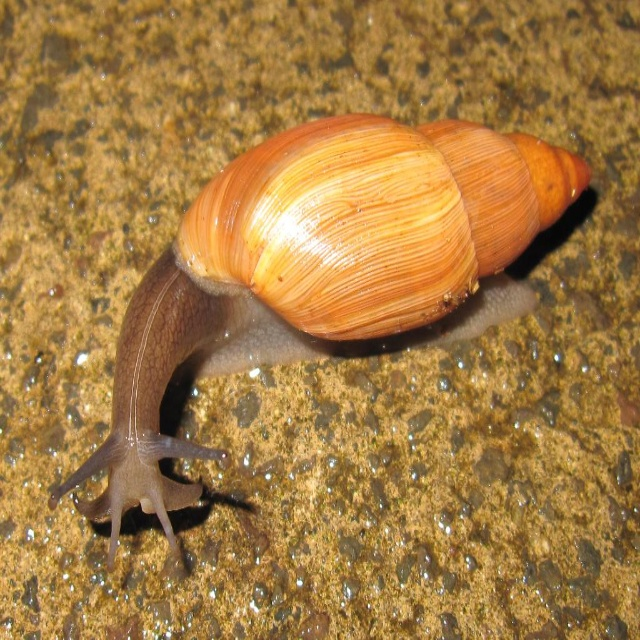Snail: (44, 106, 598, 574)
